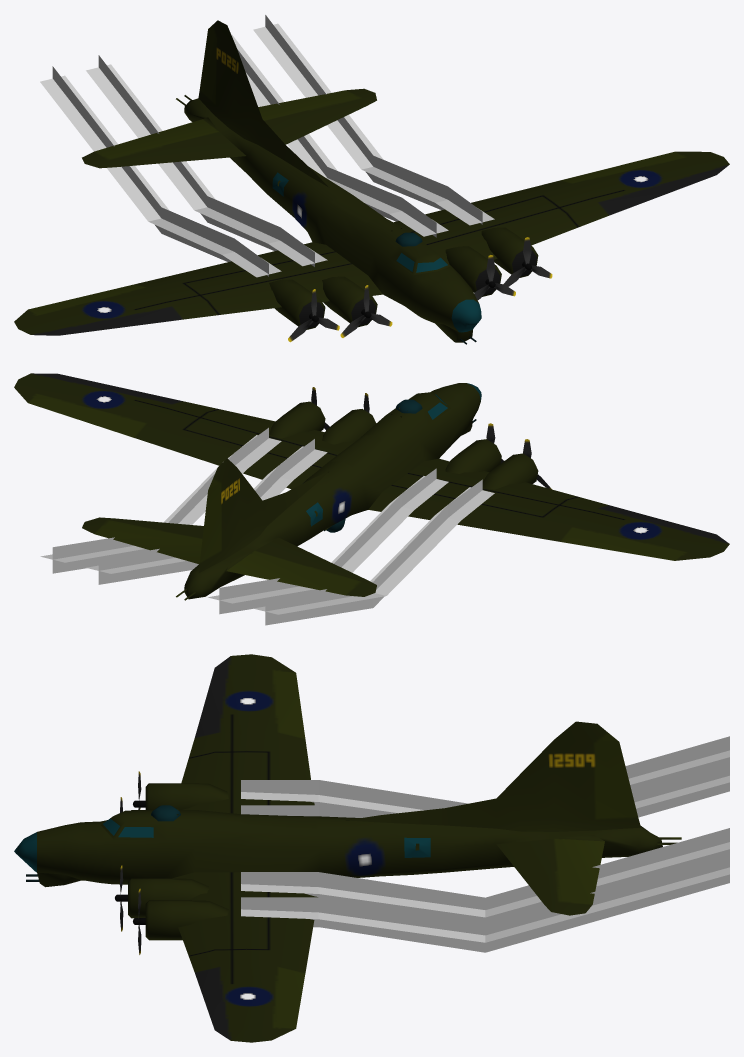
3 views of the same model, one above another, from view 1: azimuth 30°, elevation 25°; view 2: azimuth 150°, elevation 25°; view 3: azimuth 270°, elevation 25° (orthographic). The views are drawn at different scales.
Visible parts, largest first — view 1: B17, Motores.005, Motores, Motores.004, Motores.001, Motores.002; view 2: B17, Motores.005, Motores; view 3: B17, Motores.005, Motores.
Boxes of the visible parts, x1,y1,x2,y2 form: B17: (14,20,729,342); Motores.005: (40,15,494,277); Motores: (269,227,538,329); Motores.004: (503,237,552,286); Motores.001: (340,285,392,337); Motores.002: (288,289,339,342); B17: (14,373,729,599); Motores.005: (40,427,494,625); Motores: (269,401,538,489); B17: (14,654,662,1042); Motores.005: (241,736,729,952); Motores: (128,783,228,940).
Size of the model in its own units: 376 by 78.04 by 293.
